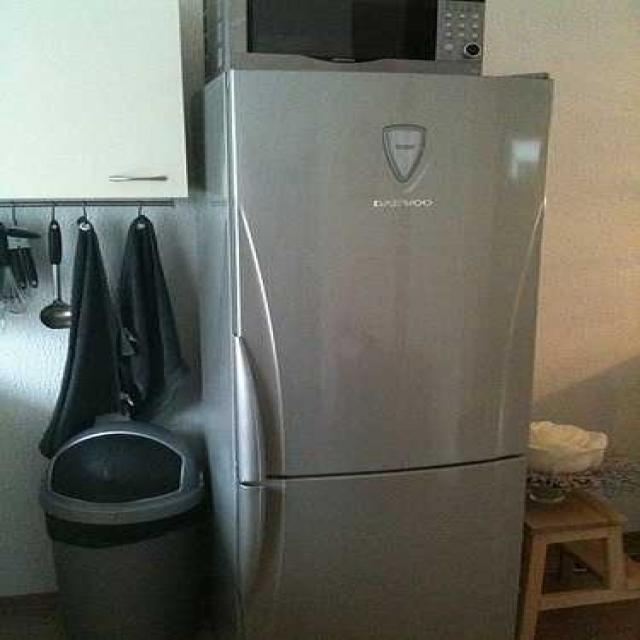refrigerator: (220, 64, 558, 640)
